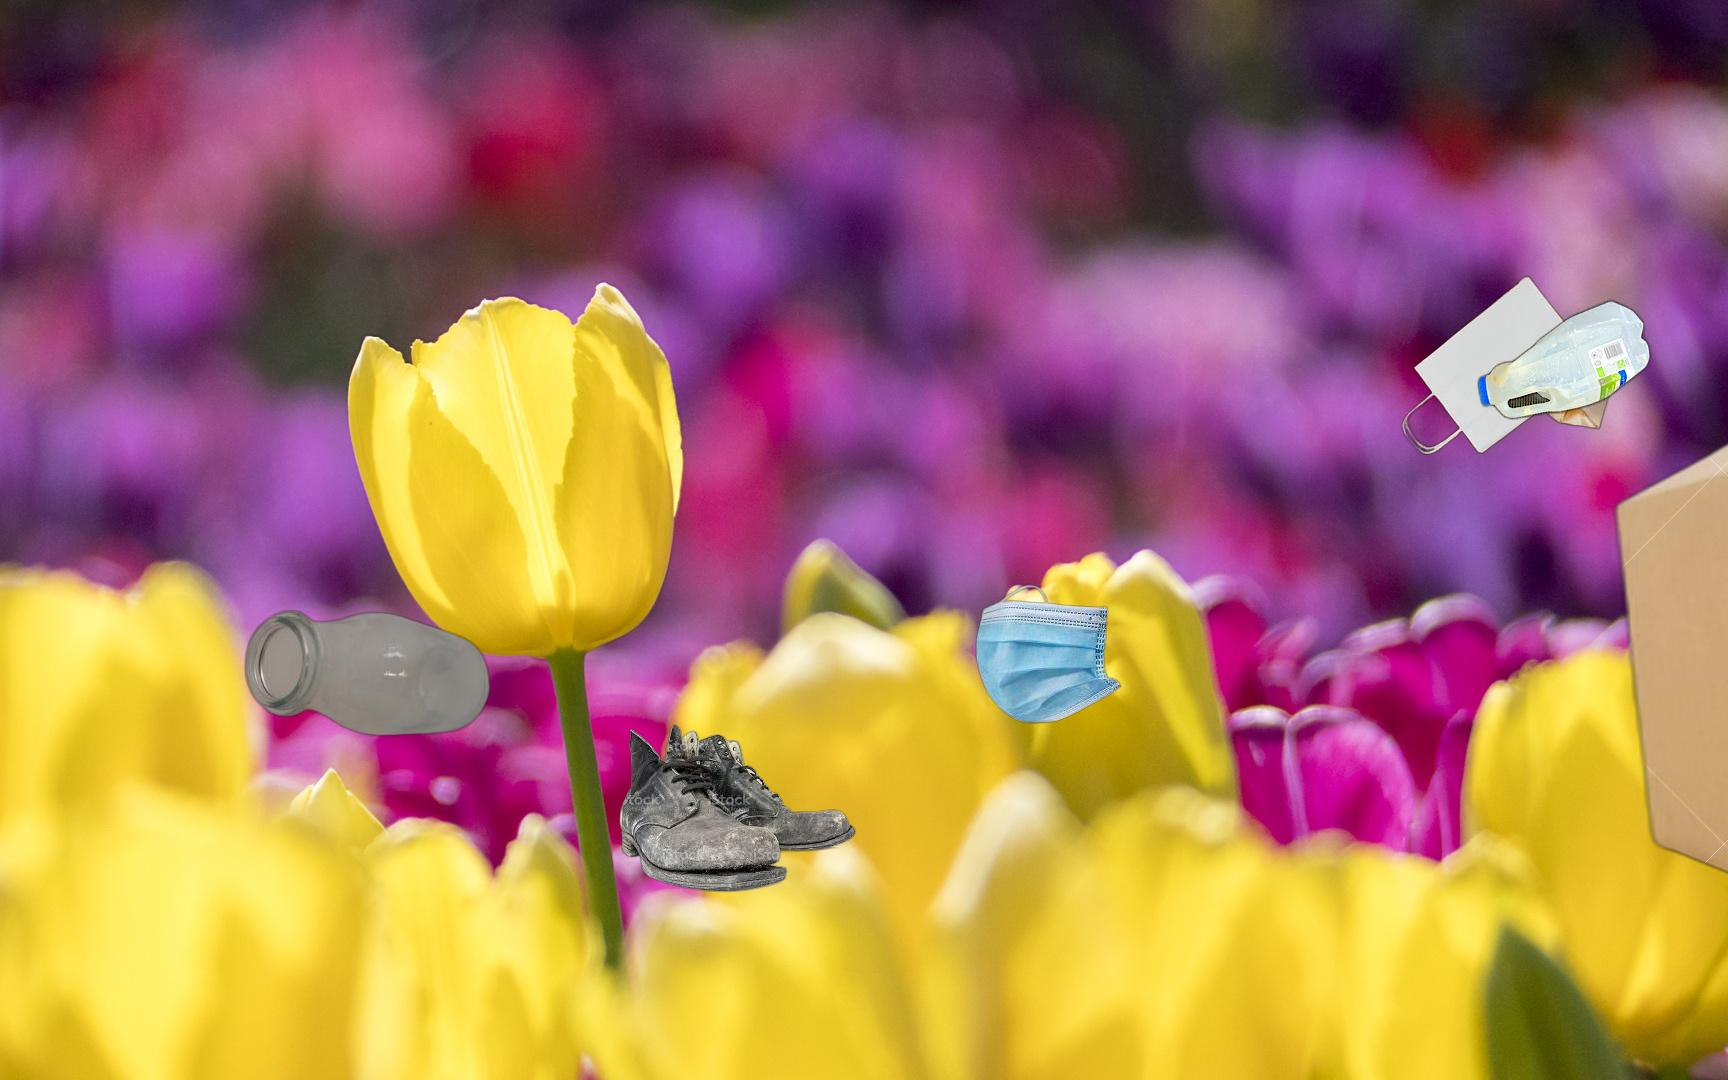glass: (240, 607, 495, 739)
paper-bag: (1400, 272, 1633, 455)
plastic-bottles: (1474, 295, 1655, 424)
shoes: (616, 722, 858, 895)
trash: (973, 582, 1123, 725)
trashbox-cardboard: (1604, 218, 1728, 1009)
